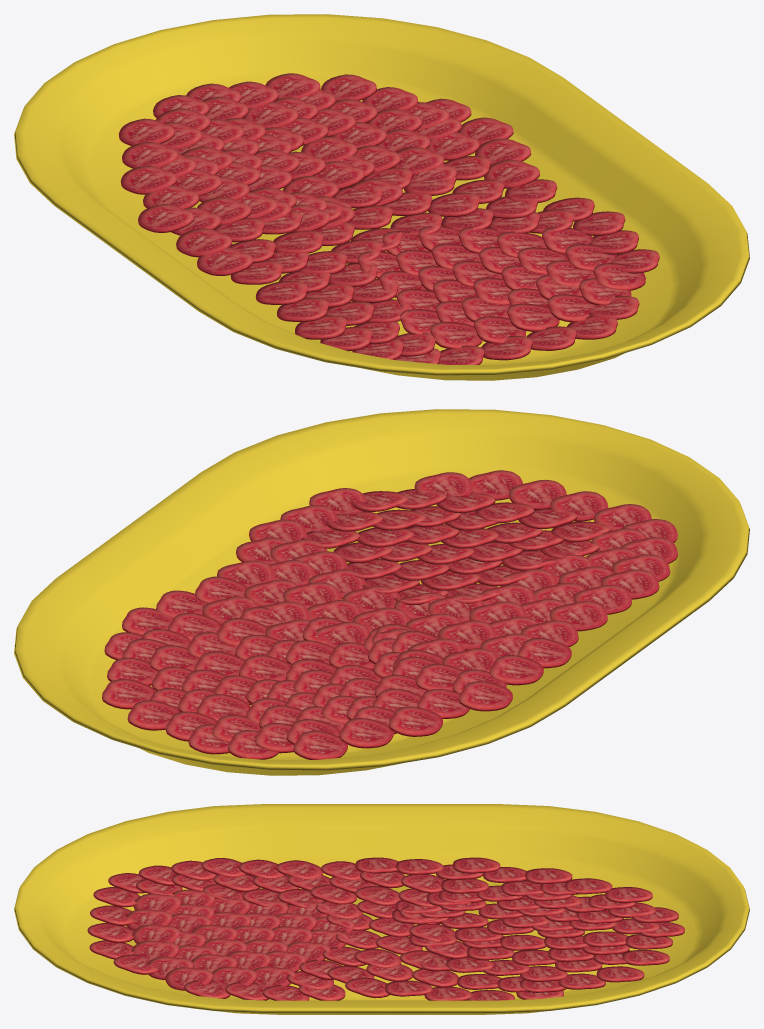
File: tomato tray.fbx
3 views of the same model, one above another, from view 1: azimuth 30°, elevation 25°; view 2: azimuth 150°, elevation 25°; view 3: azimuth 270°, elevation 25° (orthographic). The views are drawn at different scales.
Visible parts, largest first — view 1: Tomatoes.144, Dishes.029; view 2: Tomatoes.144, Dishes.029; view 3: Tomatoes.144, Dishes.029.
Part boxes in pixels (x1,y1,x2,y2): Tomatoes.144: [118, 73, 659, 364]; Dishes.029: [14, 14, 749, 380]; Tomatoes.144: [102, 470, 677, 759]; Dishes.029: [14, 409, 749, 775]; Tomatoes.144: [87, 857, 684, 1000]; Dishes.029: [14, 804, 749, 1014].
Size of the model in its own units: 86.81 by 7.58 by 131.
